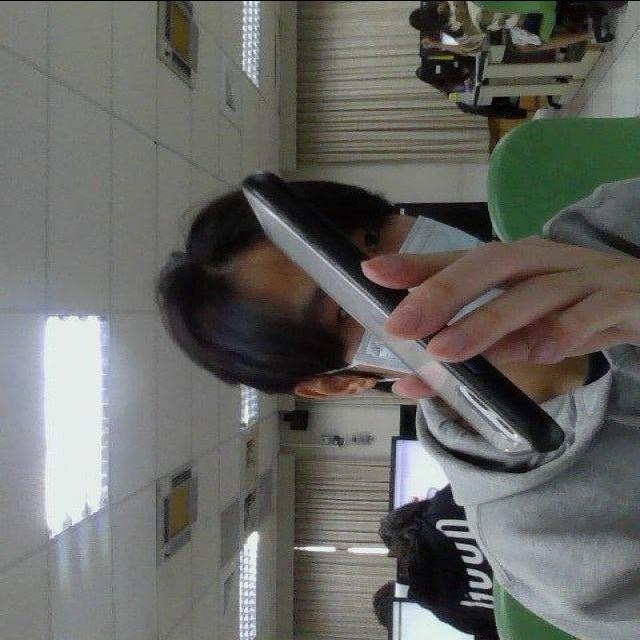ph: (218, 153, 582, 466)
